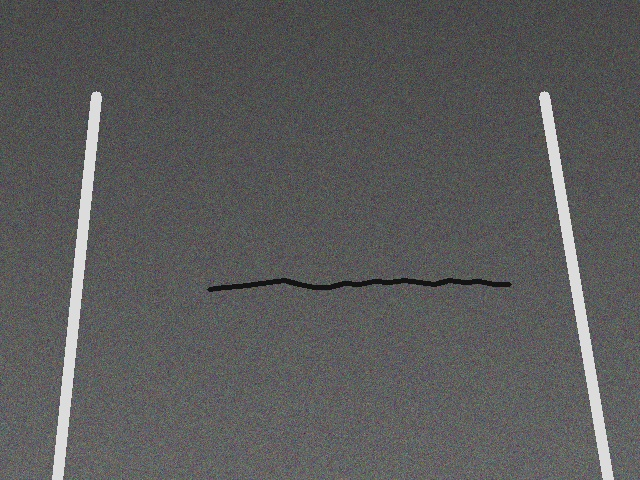D10: (209, 265, 524, 304)
